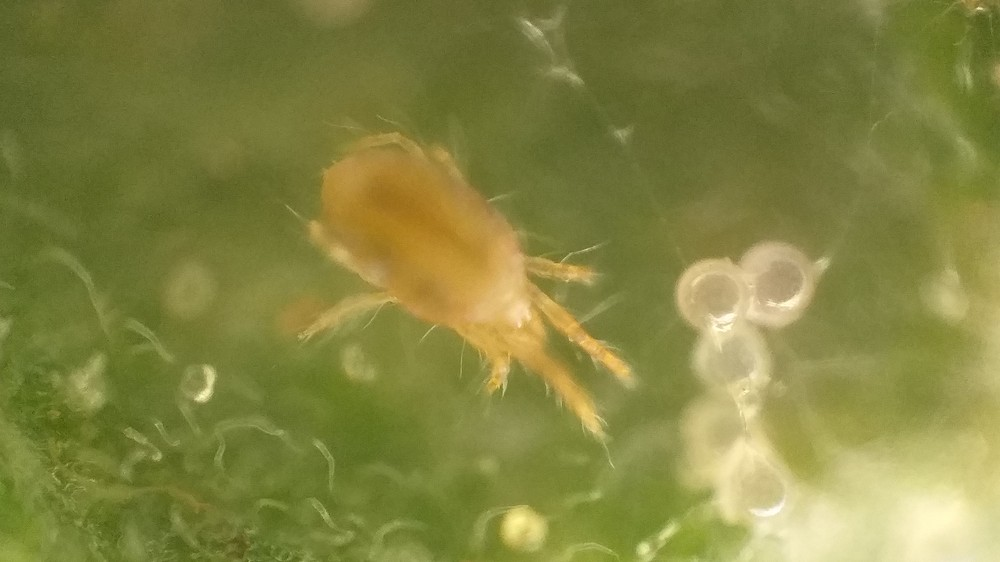Aracnido Rojo: (295, 119, 666, 469)
